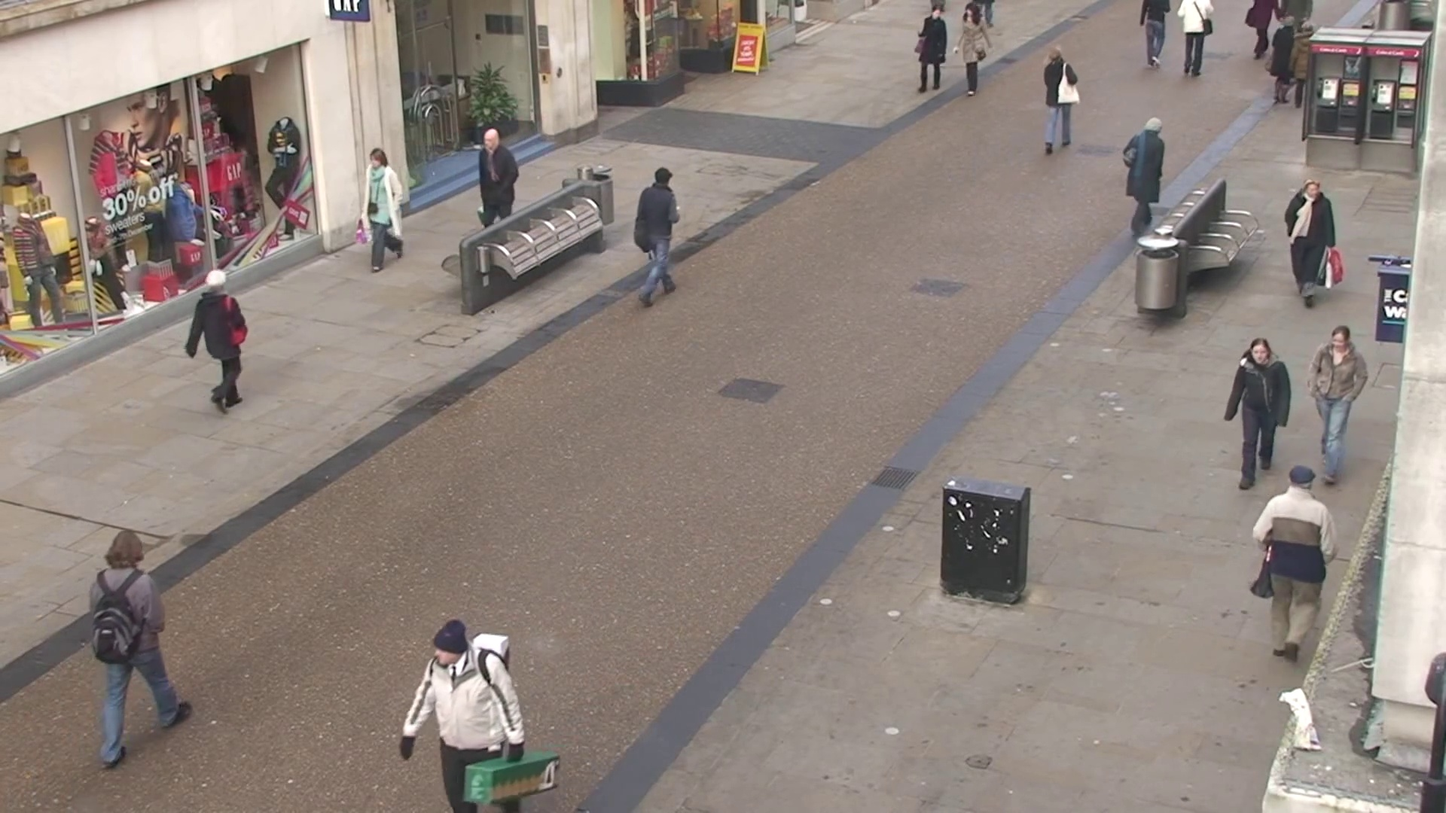person: (397, 620, 526, 811), (88, 530, 191, 768), (1252, 463, 1334, 658), (1223, 336, 1292, 490), (1310, 324, 1371, 486), (188, 275, 249, 413), (633, 166, 682, 306), (1286, 178, 1337, 311), (1121, 117, 1167, 241), (364, 149, 407, 273), (478, 123, 519, 227), (1043, 50, 1080, 157), (914, 6, 950, 93), (956, 7, 990, 96), (1265, 31, 1307, 101), (1179, 0, 1214, 78), (1139, 0, 1167, 70)
